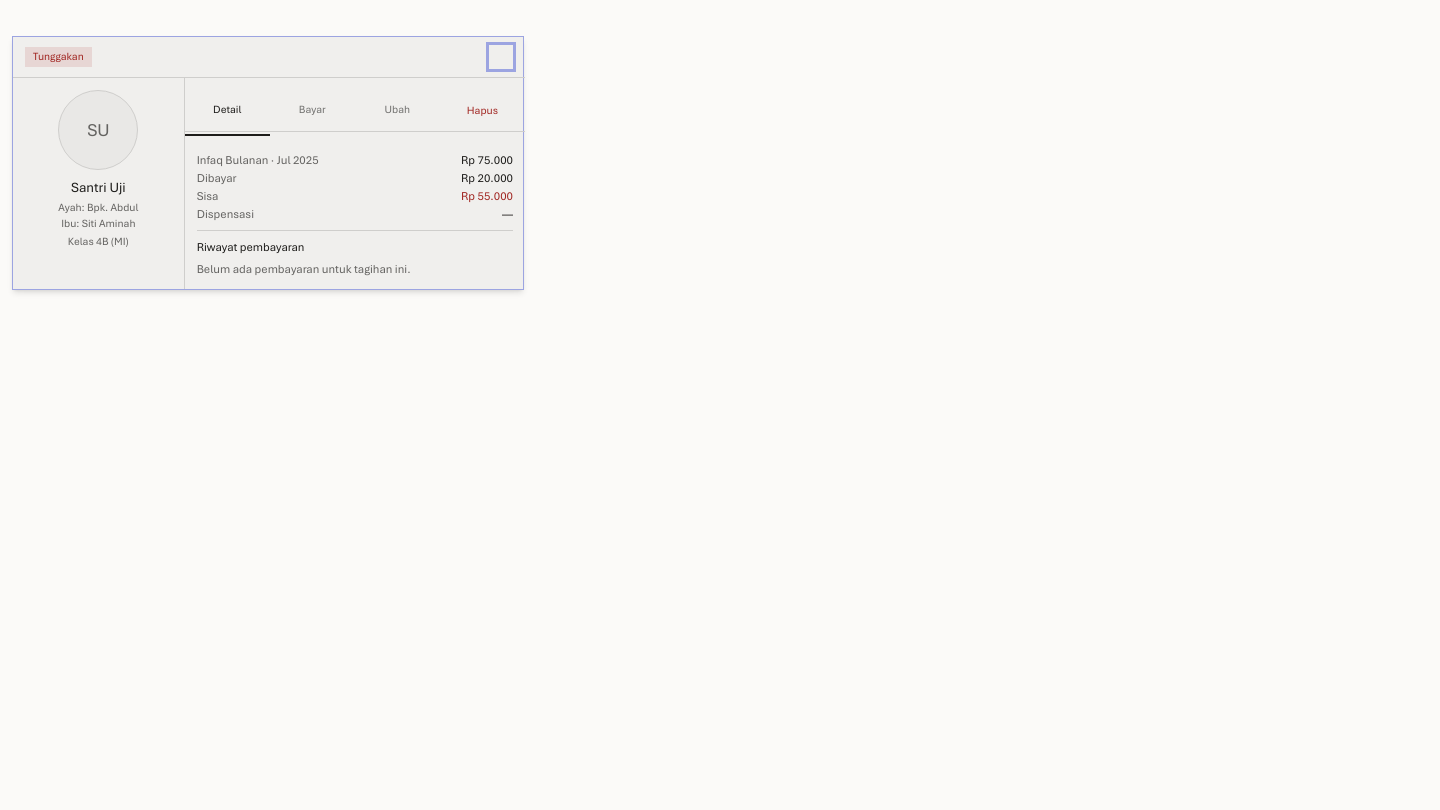
Test case: tab aksi › berpindah tab menampilkan panel yang sesuai
Click the tab "Ubah" at (397, 102), box x1=355 y1=78 x2=440 y2=127
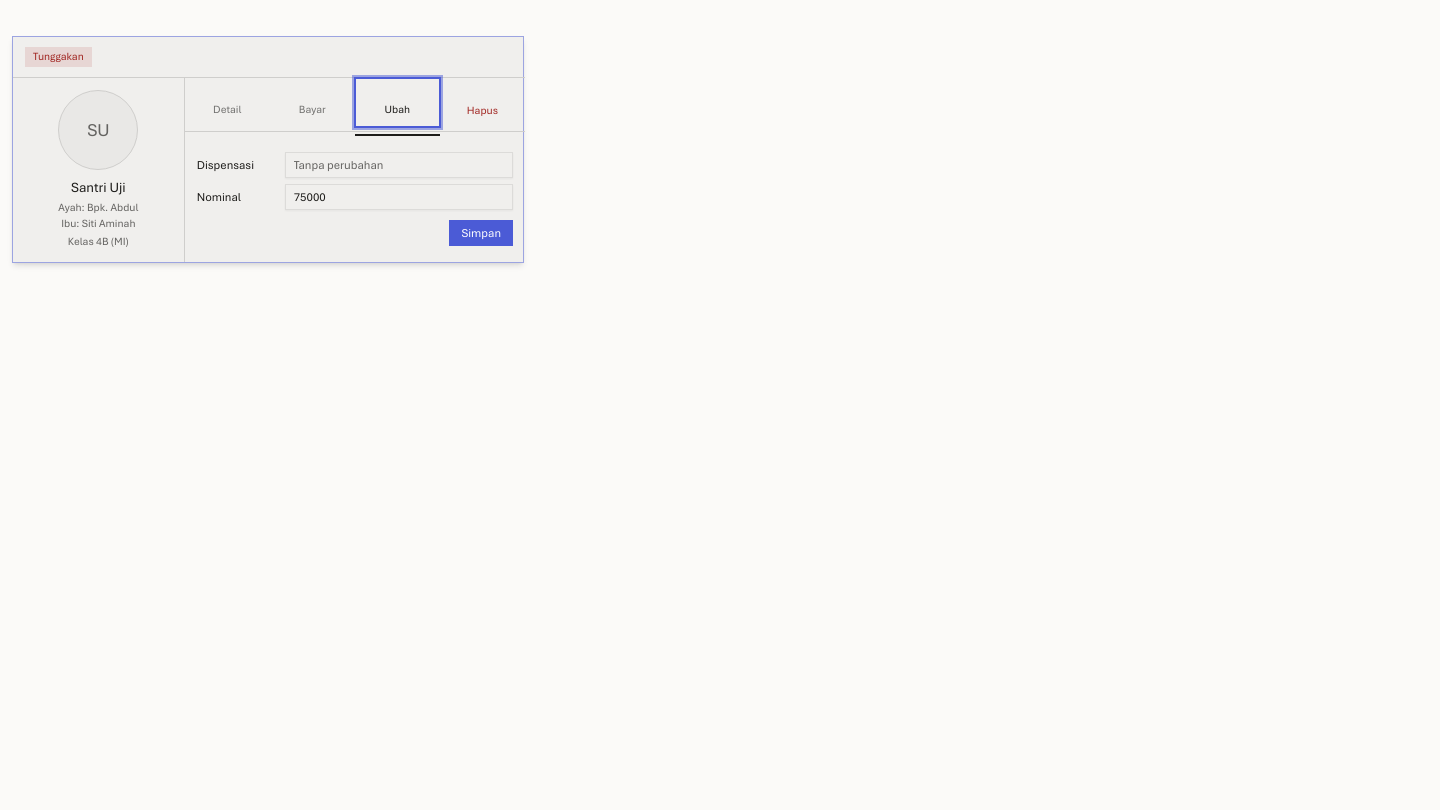
Now the number field labelled "Nominal" is shown, box x1=285 y1=184 x2=513 y2=210
